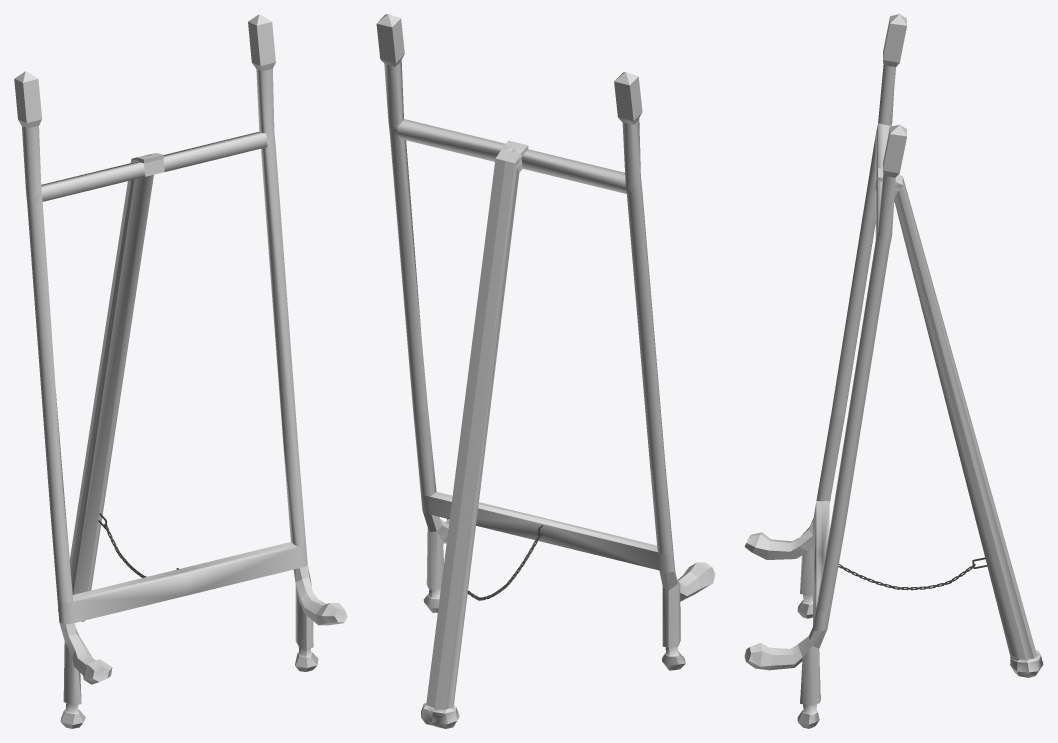
Rendered from prop_picture_frame_soport.fbx.
3 views of the same model, side by side, from view 1: azimuth 30°, elevation 25°; view 2: azimuth 150°, elevation 25°; view 3: azimuth 270°, elevation 25° (orthographic). The views are drawn at different scales.
Parts seen in each view (by area): view 1: mirror-fantasy.001, mirror-fantasy.004; view 2: mirror-fantasy.001, mirror-fantasy.004; view 3: mirror-fantasy.001, mirror-fantasy.004, bollard-chain-thin.
Boxes of the visible parts, bbox=[...] form: mirror-fantasy.001: bbox=[14, 14, 347, 728]; mirror-fantasy.004: bbox=[58, 153, 164, 621]; mirror-fantasy.001: bbox=[376, 14, 715, 670]; mirror-fantasy.004: bbox=[421, 140, 528, 728]; mirror-fantasy.001: bbox=[744, 14, 906, 728]; mirror-fantasy.004: bbox=[875, 168, 1043, 677]; bollard-chain-thin: bbox=[838, 557, 987, 590].
Size of the model in its own units: 96.22 by 219 by 98.22.
